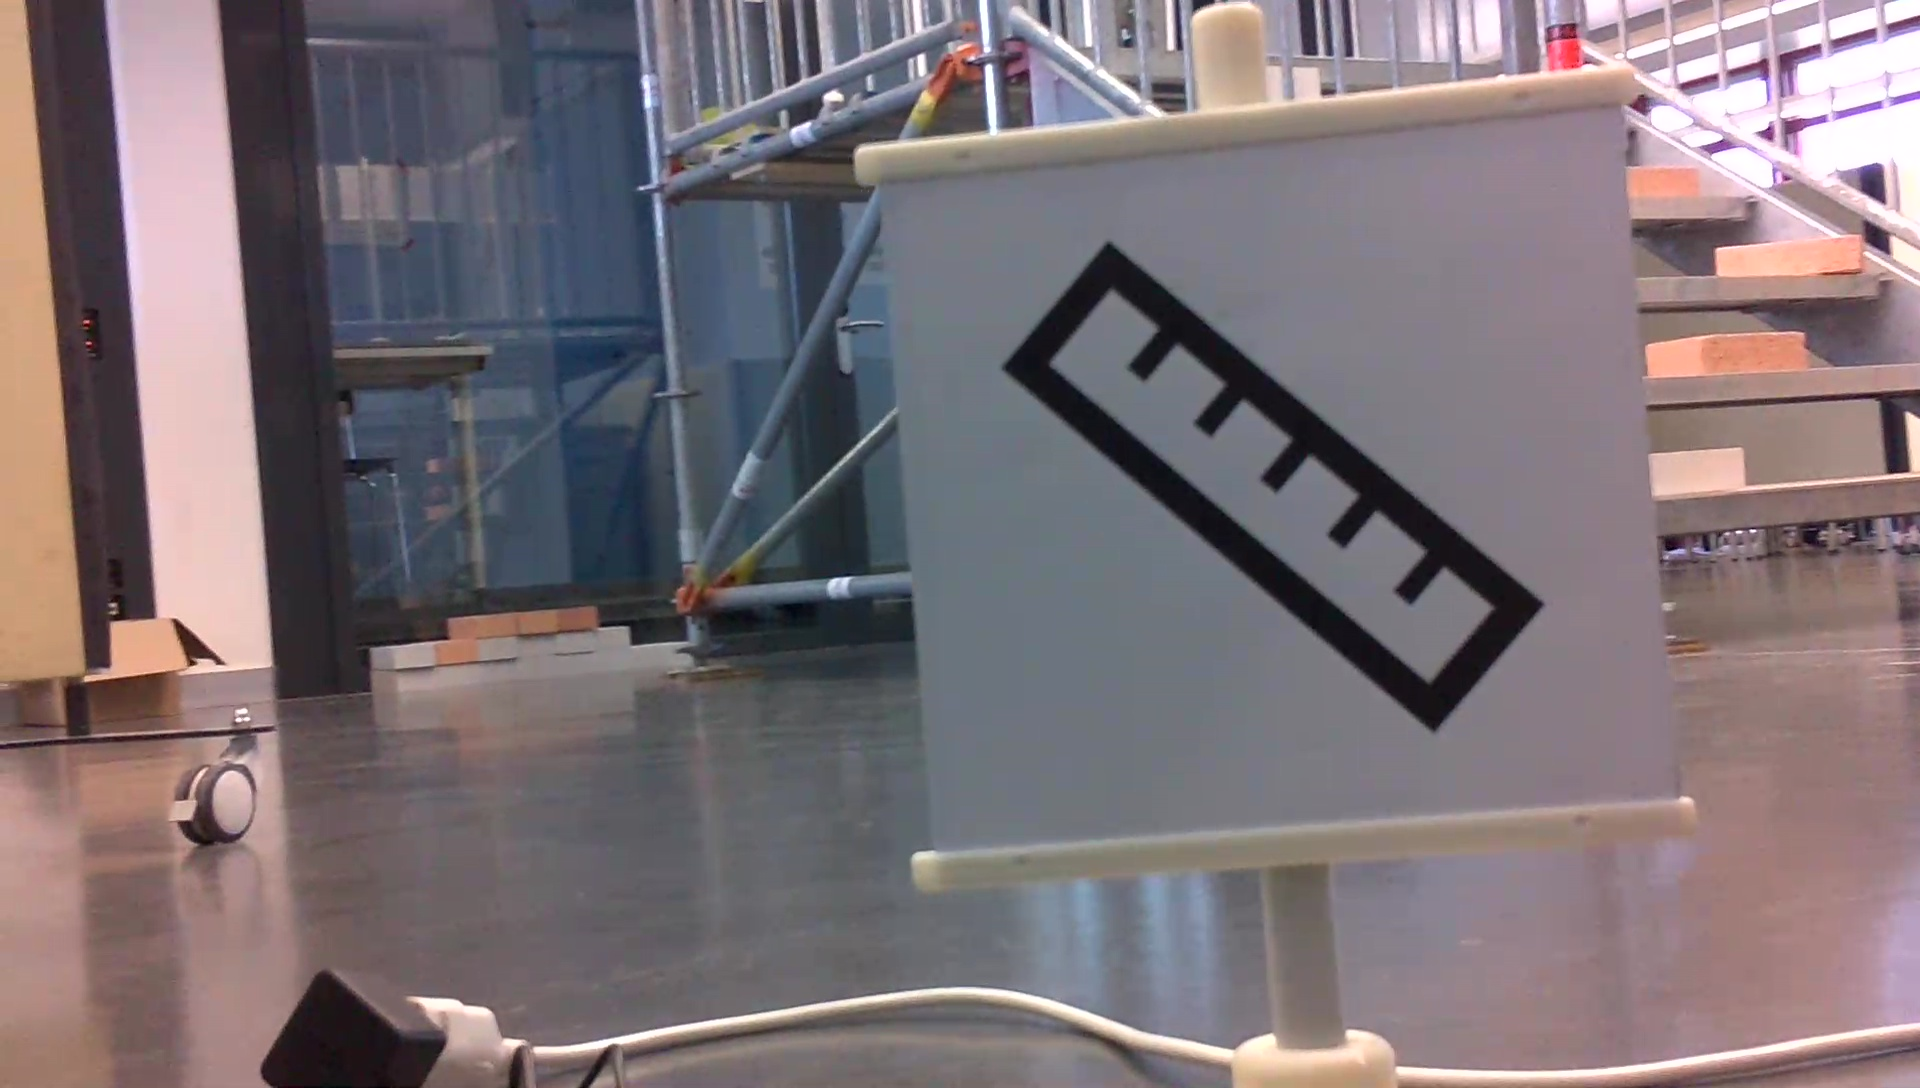brick: (1716, 231, 1865, 284), (1646, 328, 1816, 375), (1642, 444, 1754, 496), (1629, 162, 1695, 200)
ruler: (994, 231, 1564, 725)
